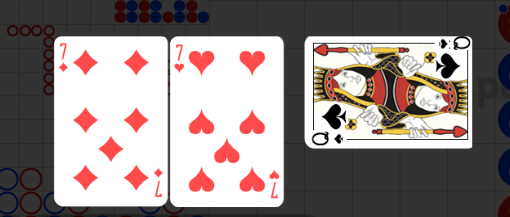7D: (152, 167, 164, 198)
7H: (268, 168, 281, 200)
9S: (437, 37, 470, 51)
